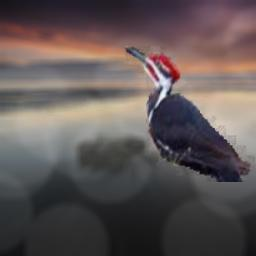Woodpecker: (124, 46, 255, 182)
